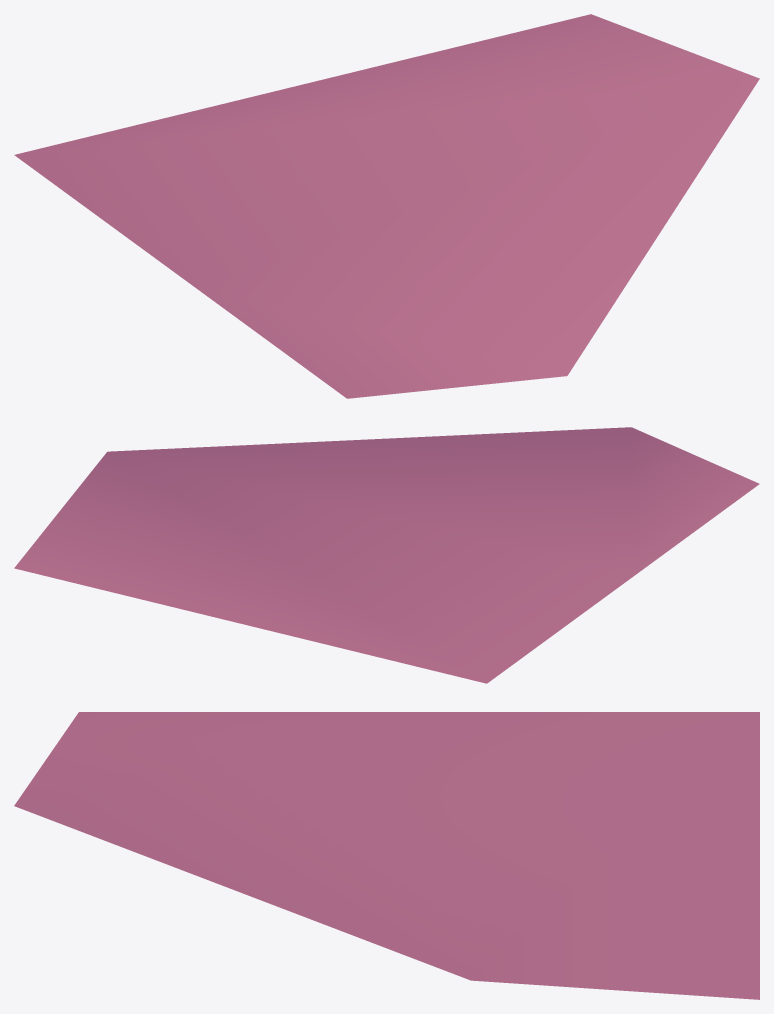
The model's file is Module_Corner_OUT_Mesh_v01_Top.fbx.
3 views of the same model, one above another, from view 1: azimuth 30°, elevation 25°; view 2: azimuth 150°, elevation 25°; view 3: azimuth 270°, elevation 25° (orthographic). The views are drawn at different scales.
Parts seen in each view (by area): view 1: Module_Corner_OUT_Mesh_v01_Top; view 2: Module_Corner_OUT_Mesh_v01_Top; view 3: Module_Corner_OUT_Mesh_v01_Top.
Part boxes in pixels (x1,y1,x2,y2): Module_Corner_OUT_Mesh_v01_Top: [14, 14, 759, 398]; Module_Corner_OUT_Mesh_v01_Top: [14, 427, 759, 683]; Module_Corner_OUT_Mesh_v01_Top: [14, 712, 759, 999].
Size of the model in its own units: 134 by 6.83 by 140.
